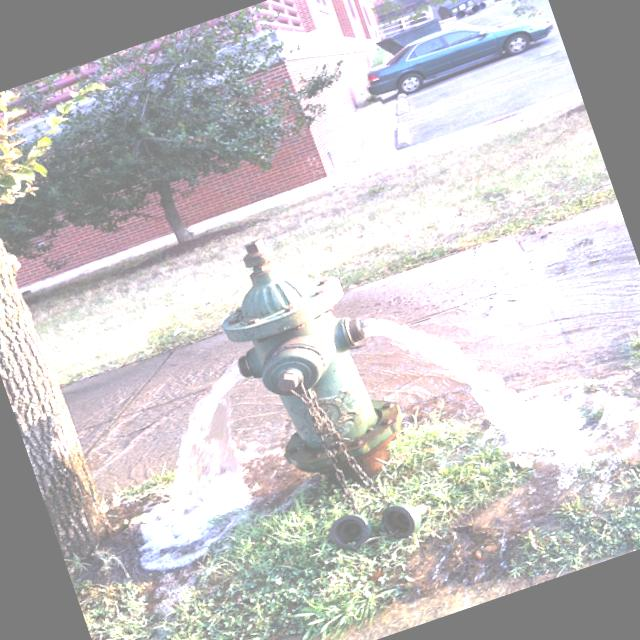Vehicle: (354, 0, 560, 108)
